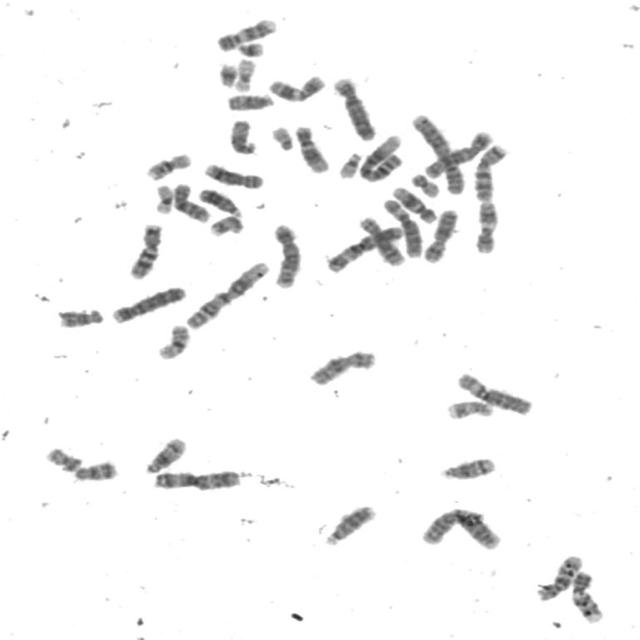A1: (182, 257, 274, 331), (357, 130, 407, 182)
A2: (408, 109, 468, 197), (418, 503, 506, 551)
A3: (324, 221, 407, 274), (150, 465, 244, 492)
B4: (108, 280, 190, 324), (330, 73, 380, 141)
B5: (421, 126, 496, 180), (269, 219, 305, 289)
C10: (534, 550, 586, 602), (170, 178, 213, 224)
C11: (266, 70, 329, 103), (472, 197, 501, 256)
C12: (388, 181, 441, 225), (292, 121, 334, 174)
C6: (453, 367, 537, 417), (380, 194, 426, 259)
C7: (470, 139, 512, 202), (126, 219, 166, 280)
C8: (355, 211, 409, 267), (202, 158, 268, 190)
C9: (213, 13, 280, 52), (568, 566, 608, 624)
D13: (322, 499, 379, 547), (195, 184, 245, 218)
D14: (437, 452, 500, 481), (145, 439, 189, 476)
D15: (225, 115, 260, 156), (224, 89, 278, 112)
E16: (142, 148, 196, 181), (154, 320, 194, 361)
E17: (443, 396, 497, 421), (206, 210, 248, 238)
E18: (54, 303, 107, 329), (68, 461, 120, 483)
F19: (231, 53, 259, 93), (152, 180, 176, 214)
F20: (42, 443, 84, 473), (407, 168, 444, 198)
G21: (214, 58, 240, 88), (233, 37, 267, 57)
G22: (335, 148, 365, 180), (268, 121, 298, 152)
X: (306, 345, 380, 387), (420, 204, 462, 264)
